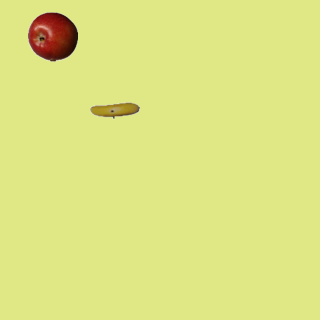Apple Braeburn: (27, 11, 77, 61)
Banana: (89, 85, 139, 135)
